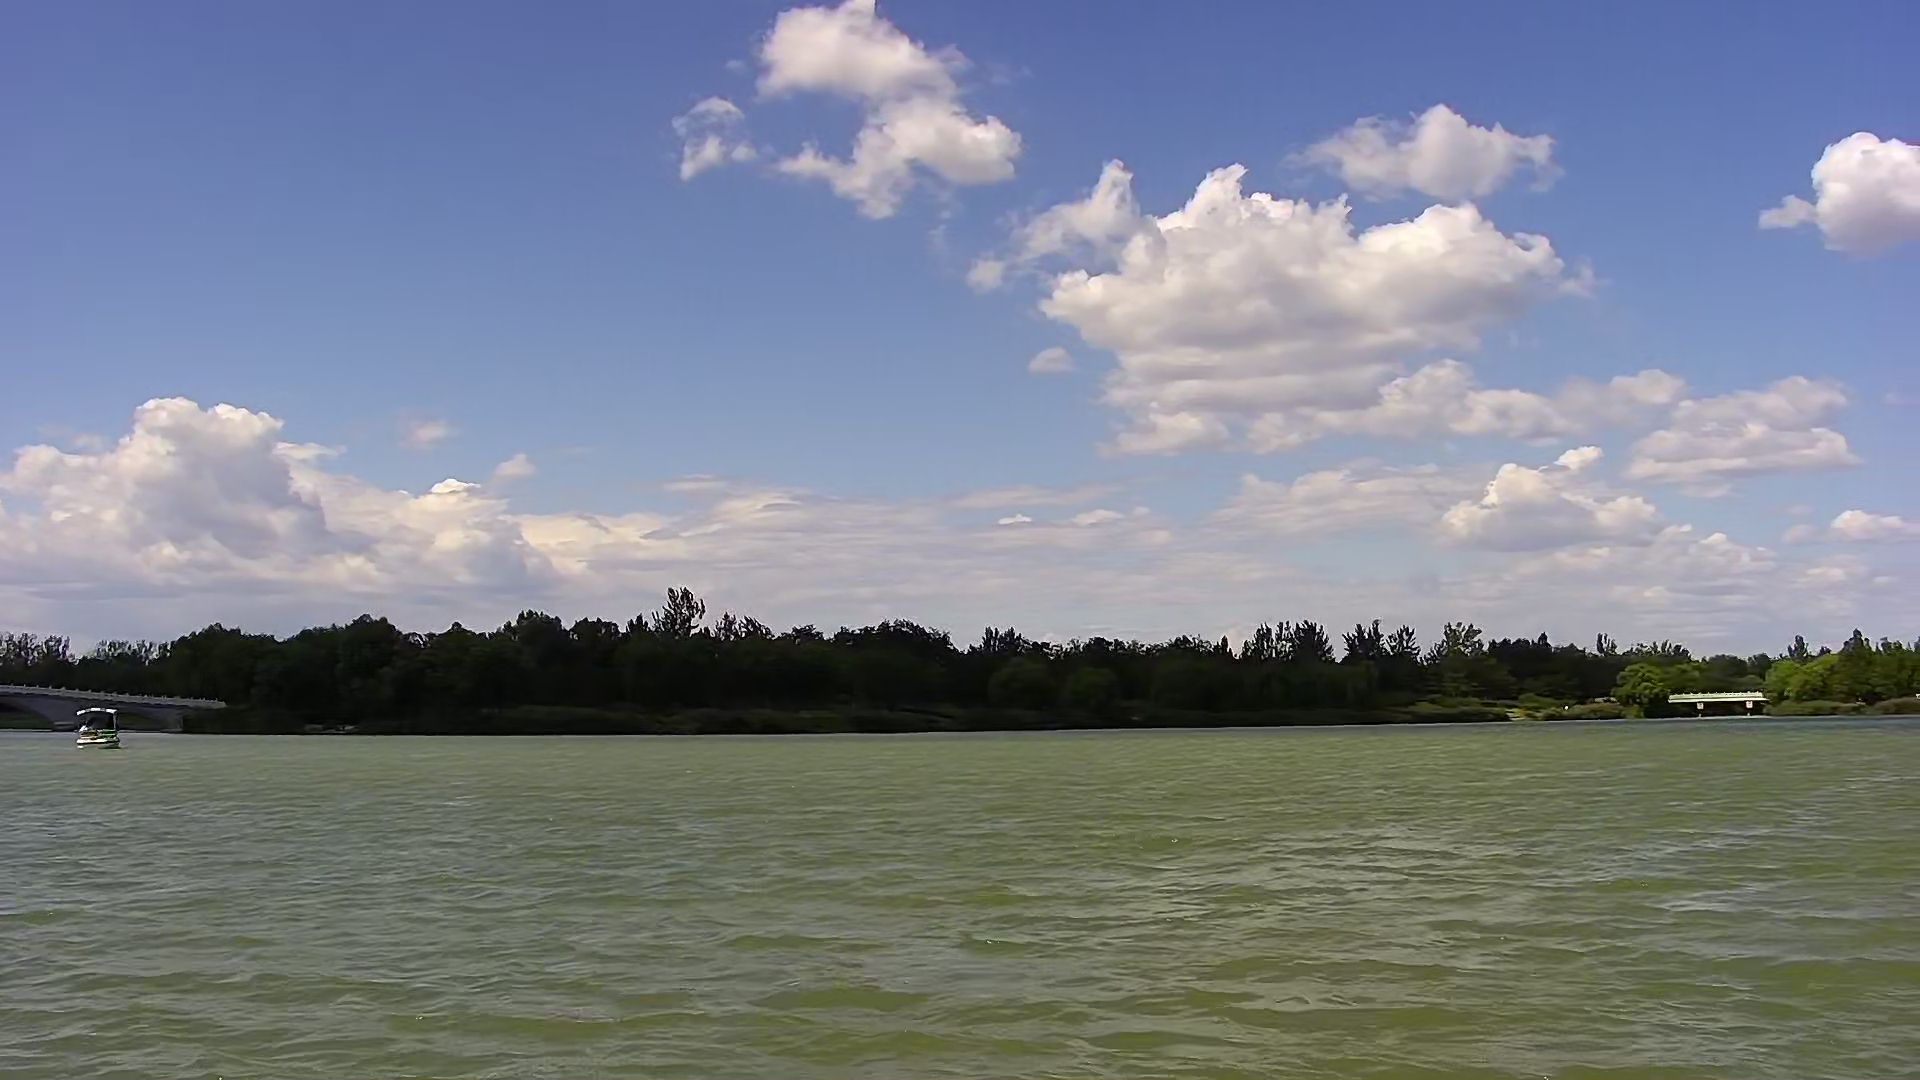boat: (65, 705, 129, 754)
bridge: (1, 676, 225, 735), (1665, 687, 1772, 731)
